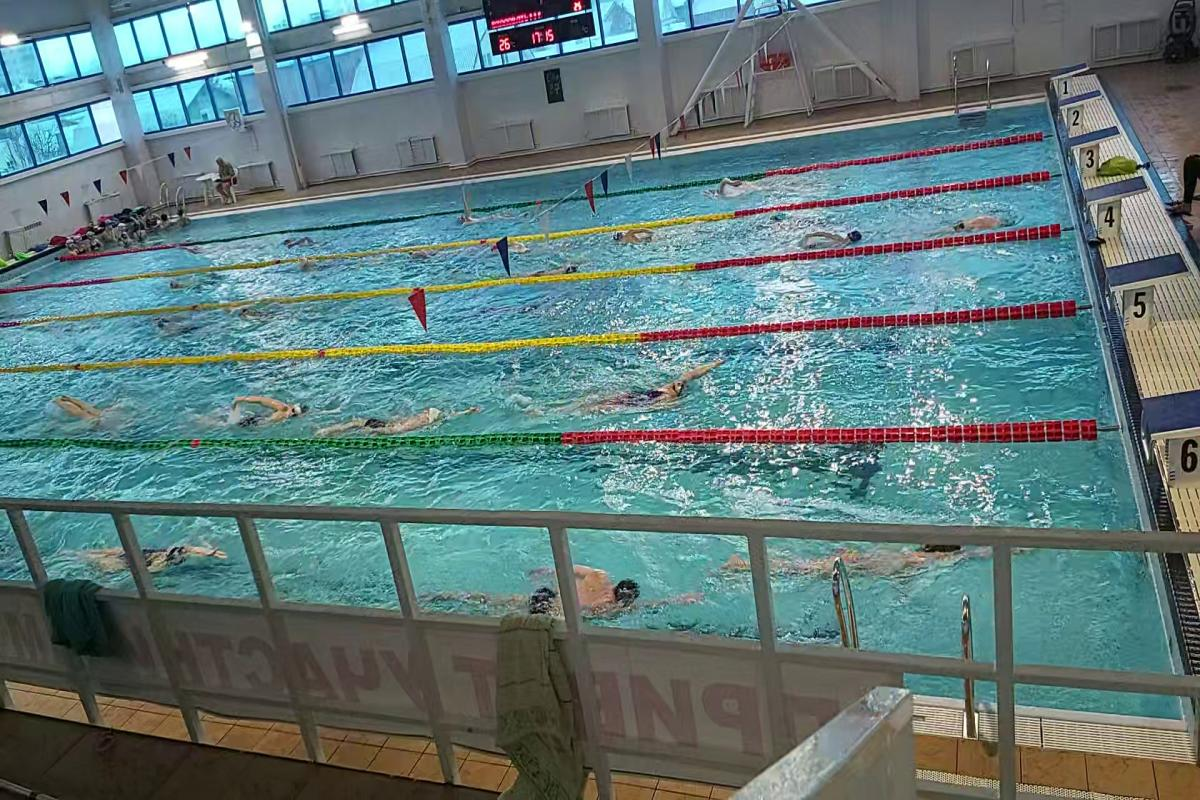swimmer: (439, 555, 727, 624), (83, 531, 241, 585), (595, 356, 731, 416), (774, 543, 972, 581), (326, 398, 496, 435), (222, 391, 314, 431), (784, 217, 867, 250), (455, 191, 522, 227), (601, 226, 676, 254), (935, 208, 1023, 231), (702, 182, 754, 208), (531, 258, 590, 277)
